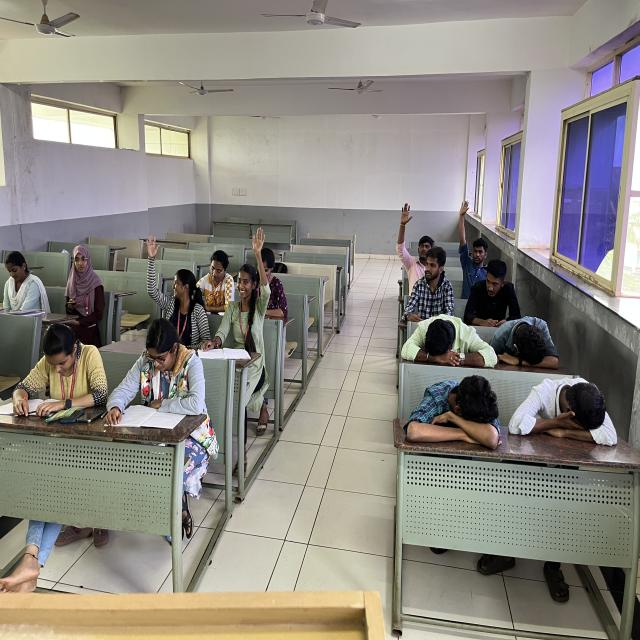Hand Rising: (138, 227, 213, 346), (219, 220, 273, 350), (452, 195, 493, 291), (395, 202, 440, 283)
Reading: (97, 311, 215, 439), (0, 314, 119, 421)
Sleeping: (386, 364, 516, 459), (505, 366, 620, 451), (395, 306, 500, 376), (486, 310, 564, 380)
Using Phone: (61, 243, 106, 322)
